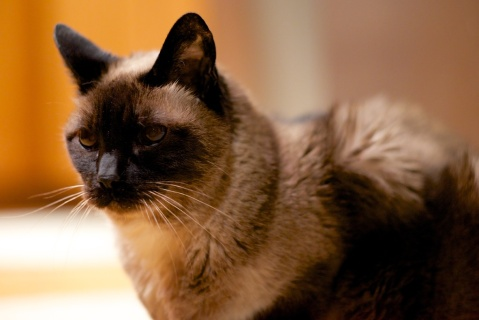Cat: (0, 11, 478, 319)
